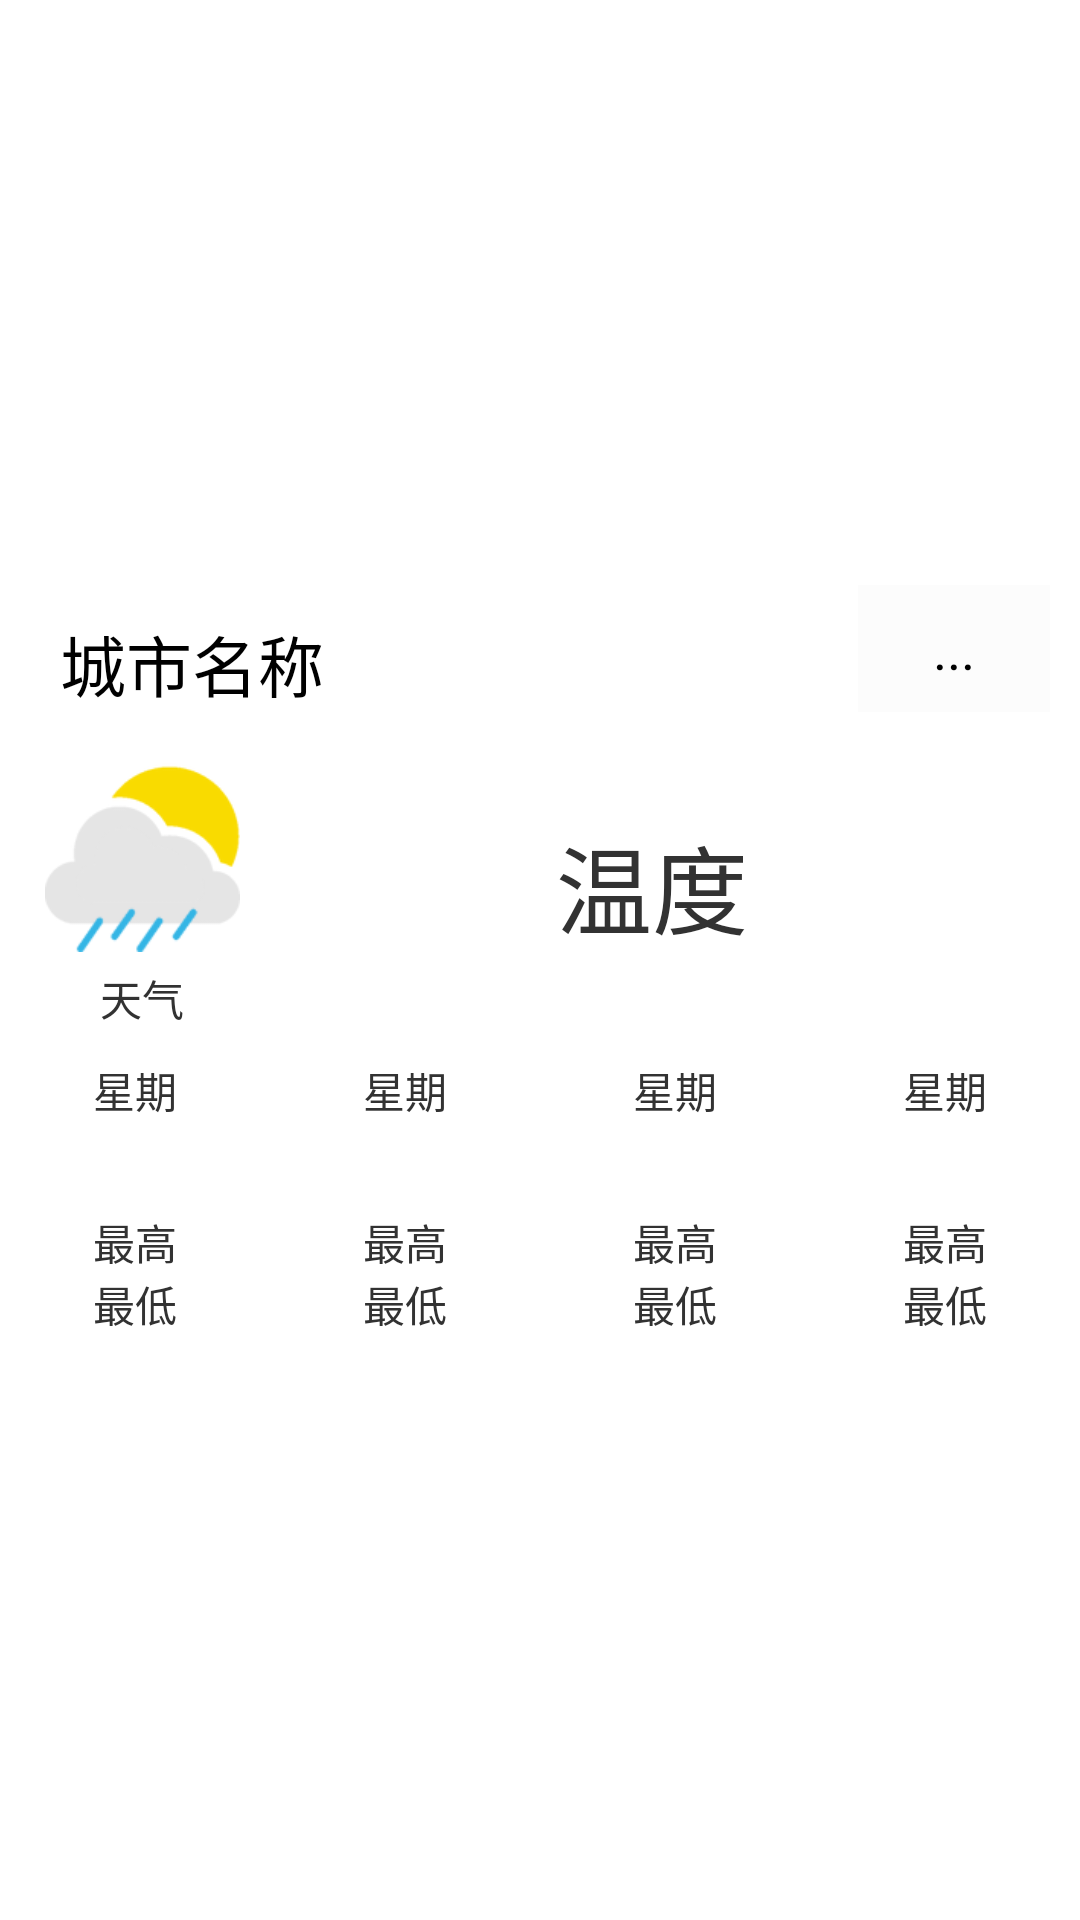

Screen size 1080px x 1920px. Icon name, then its box in pixels as (x1, y1, x2, y2):
weather chance of rain: (45, 766, 240, 952)
